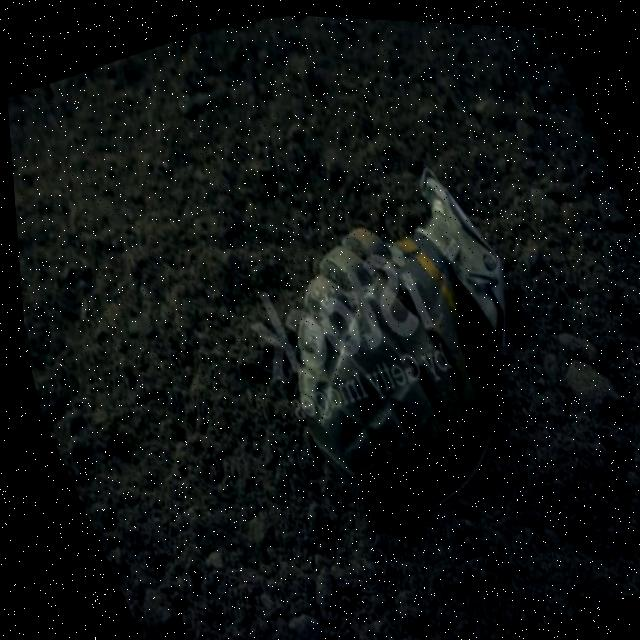grenade: (198, 136, 600, 561)
